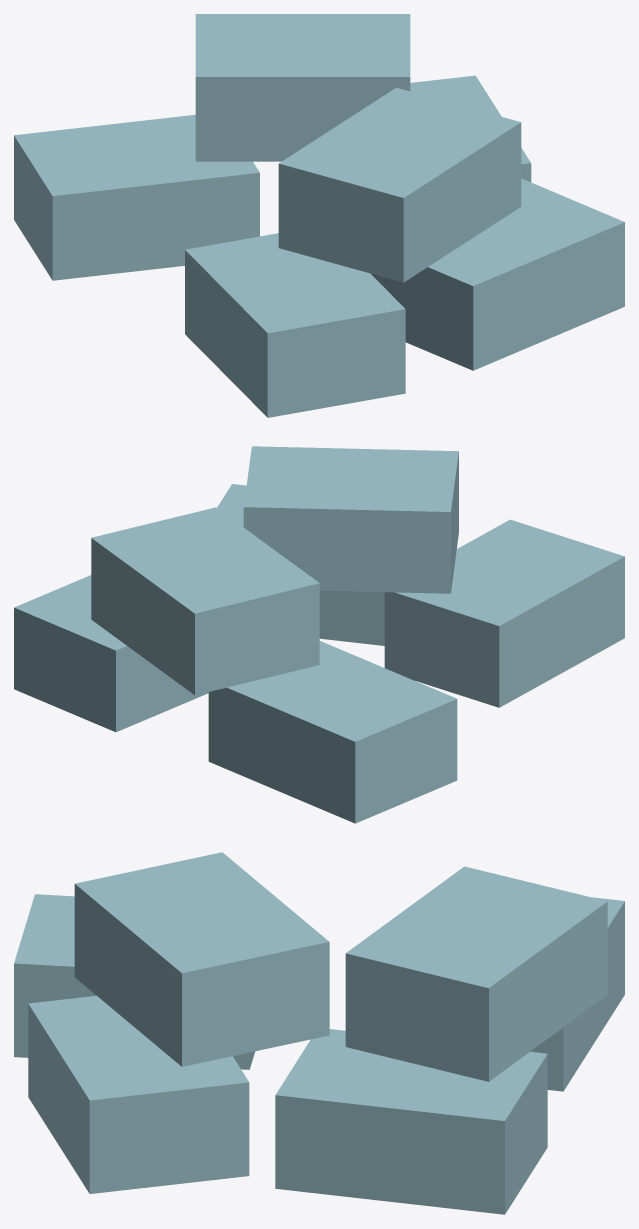
Rendered from debris.dae.
3 views of the same model, one above another, from view 1: azimuth 30°, elevation 25°; view 2: azimuth 150°, elevation 25°; view 3: azimuth 270°, elevation 25° (orthographic). The views are drawn at different scales.
Parts seen in each view (by area): view 1: debris; view 2: debris; view 3: debris.
Boxes of the visible parts, x1=… form: debris: x1=14, y1=14, x2=624, y2=417; debris: x1=14, y1=446, x2=624, y2=823; debris: x1=14, y1=852, x2=624, y2=1214.
Size of the model in its own units: 0.4365 by 0.16 by 0.4731.
